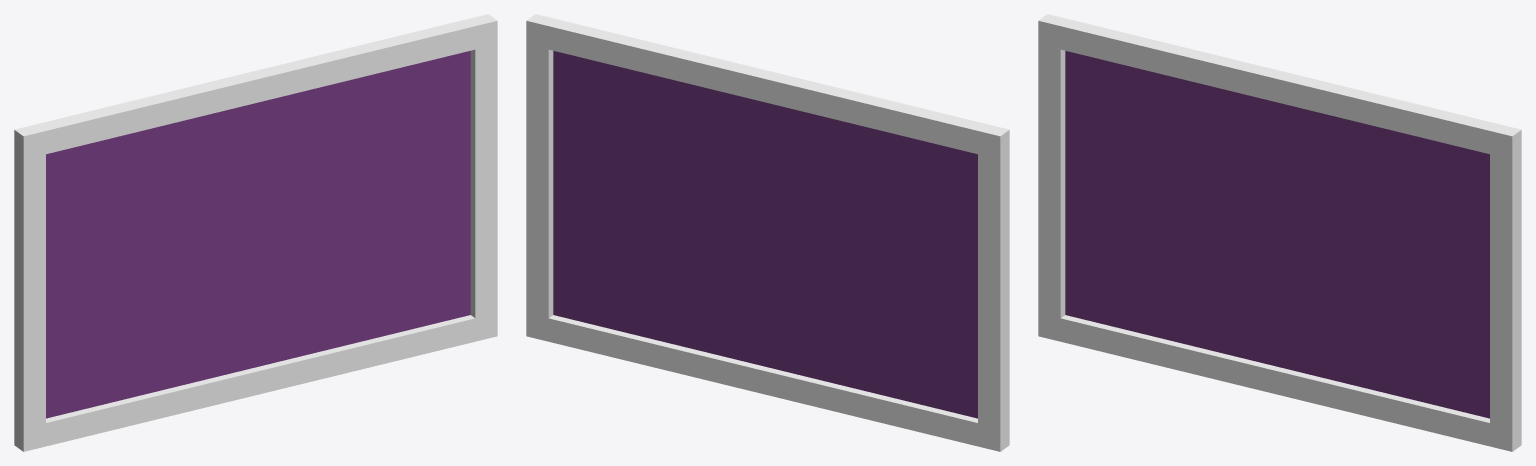
File: screen.FBX
The picture shows the model from 3 angles, left to right: view 1: azimuth 30°, elevation 25°; view 2: azimuth 150°, elevation 25°; view 3: azimuth 330°, elevation 25°; orthographic projection.
Parts seen in each view (by area): view 1: consoleScreen; view 2: consoleScreen; view 3: consoleScreen.
Boxes of the visible parts, x1=… form: consoleScreen: x1=14, y1=14, x2=497, y2=451; consoleScreen: x1=526, y1=14, x2=1009, y2=451; consoleScreen: x1=1038, y1=14, x2=1521, y2=451.
Size of the model in its own units: 456 by 290 by 15.36.
